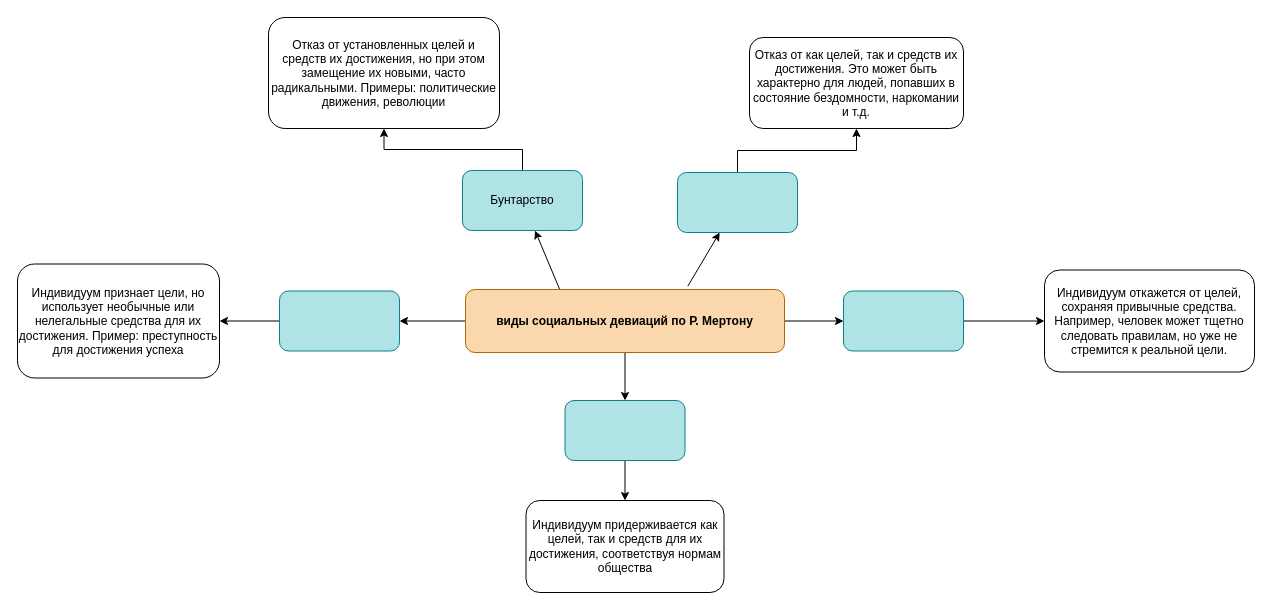
The diagram is 1272 pixels wide and 610 high, and some of its shapes have lost their labels. Each missing label, with the centre of its shape:
Инновация: (x=339, y=320)
Отторжение: (x=737, y=202)
Ритуализм: (x=903, y=320)
Соответствие: (x=624, y=430)
